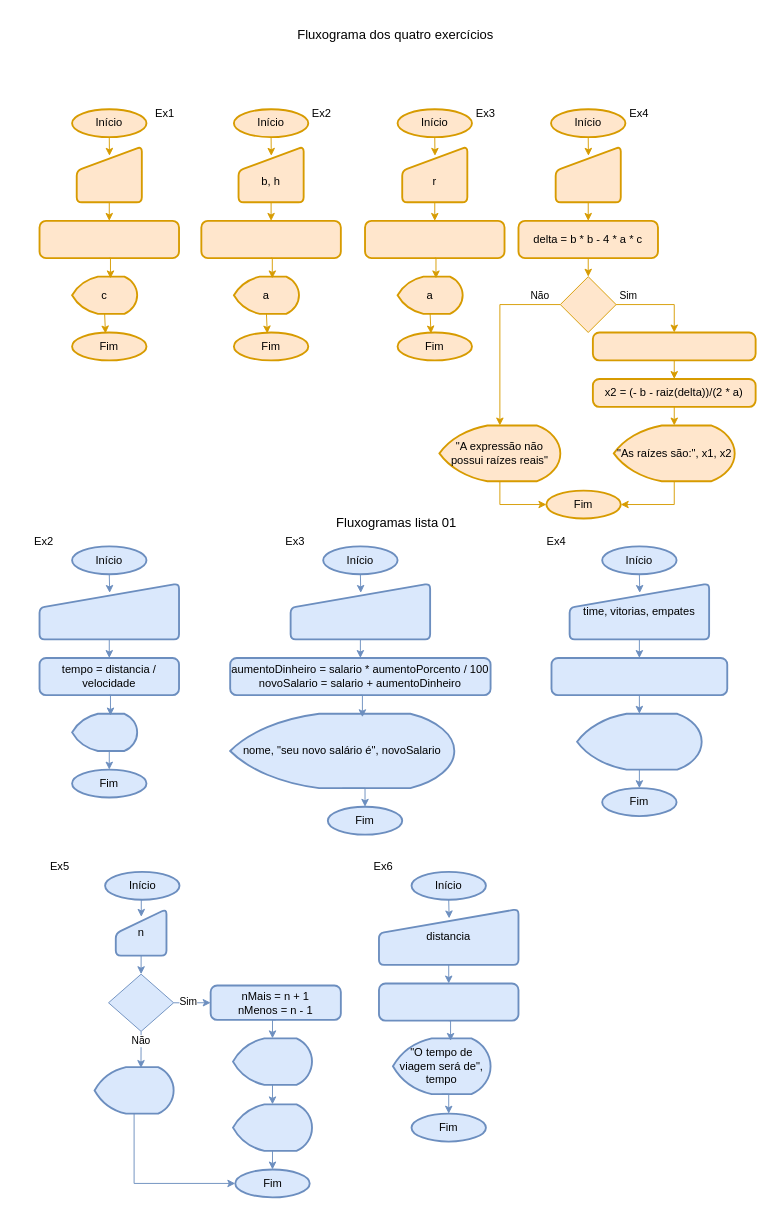
The diagram is 772 pixels wide and 1214 high, and some of its shapes have lost their labels. Here are the shapes that lost their labels. From the top down, the centre of each, then its label:
point (108, 174): n1, n2
point (587, 174): a, b, c
point (108, 239): c = 2 * n1 + n2 * n2
point (270, 239): a = b * h
point (434, 239): a = 3.14 * r * r
point (587, 304): delta > 0
point (673, 346): x1 = (- b + raiz(delta))/(2 * a)
point (108, 611): velocidade, distancia
point (360, 611): nome, salario, aumentoPorcento
point (639, 676): pontos = vitorias * 3 + empates
point (104, 731): tempo
point (639, 741): "O total de pontos do", time, "é", pontos
point (141, 1002): n > 0
point (448, 1001): tempo = distancia / 900
point (272, 1061): n, " + 1 = ", nMais
point (133, 1090): "O número não é positivo"
point (272, 1127): n, " - 1 = ", nMenos
